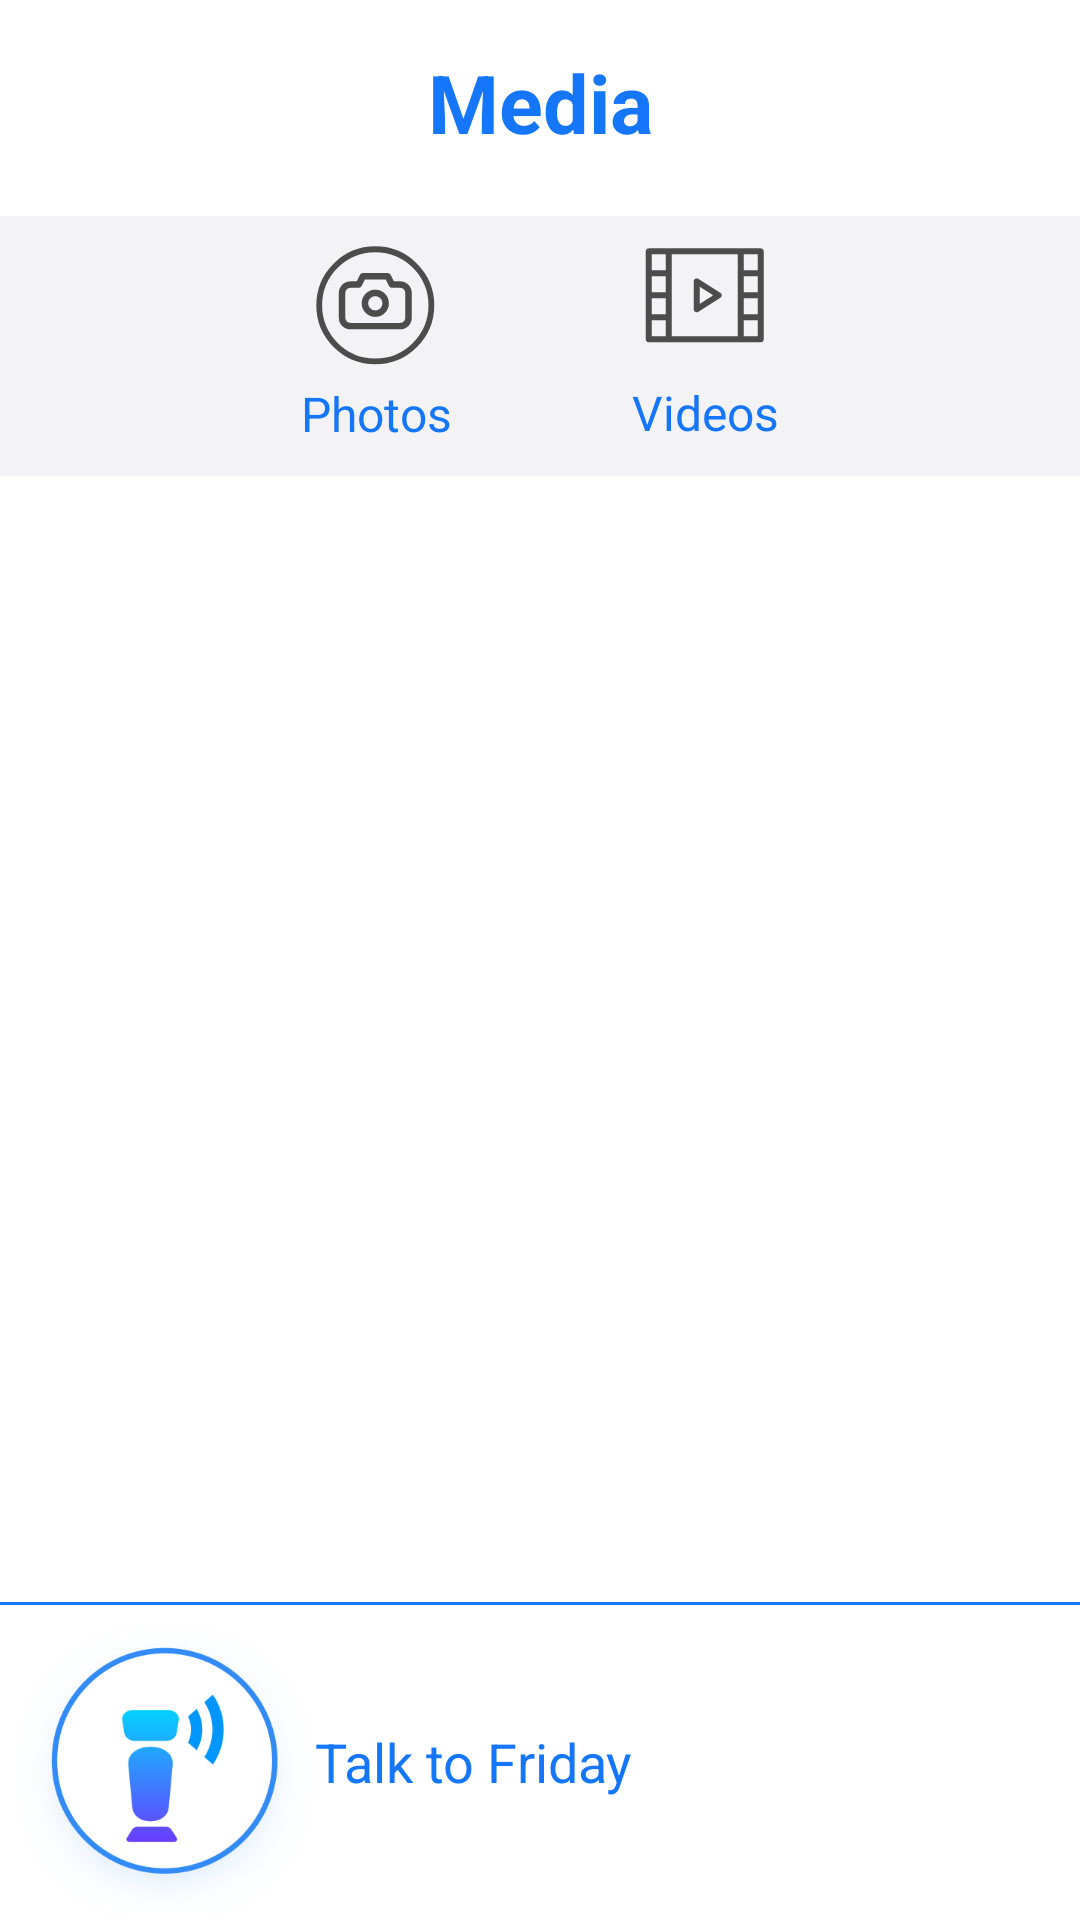

Locate icon controls on the screen. Image size 1080×1920, boxes as bbox(x1, y1, x2, y2).
speak: bbox(51, 1647, 278, 1874)
